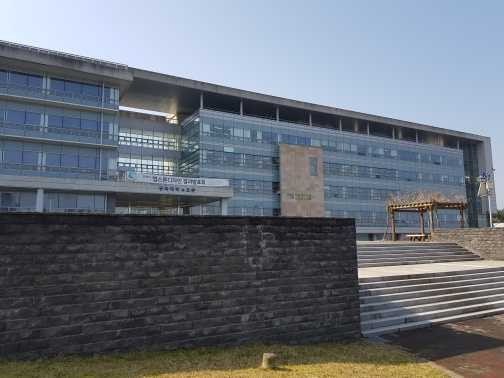Engineering College Building 4: (5, 46, 494, 223), (339, 122, 481, 215), (266, 139, 337, 220), (126, 156, 227, 209)
